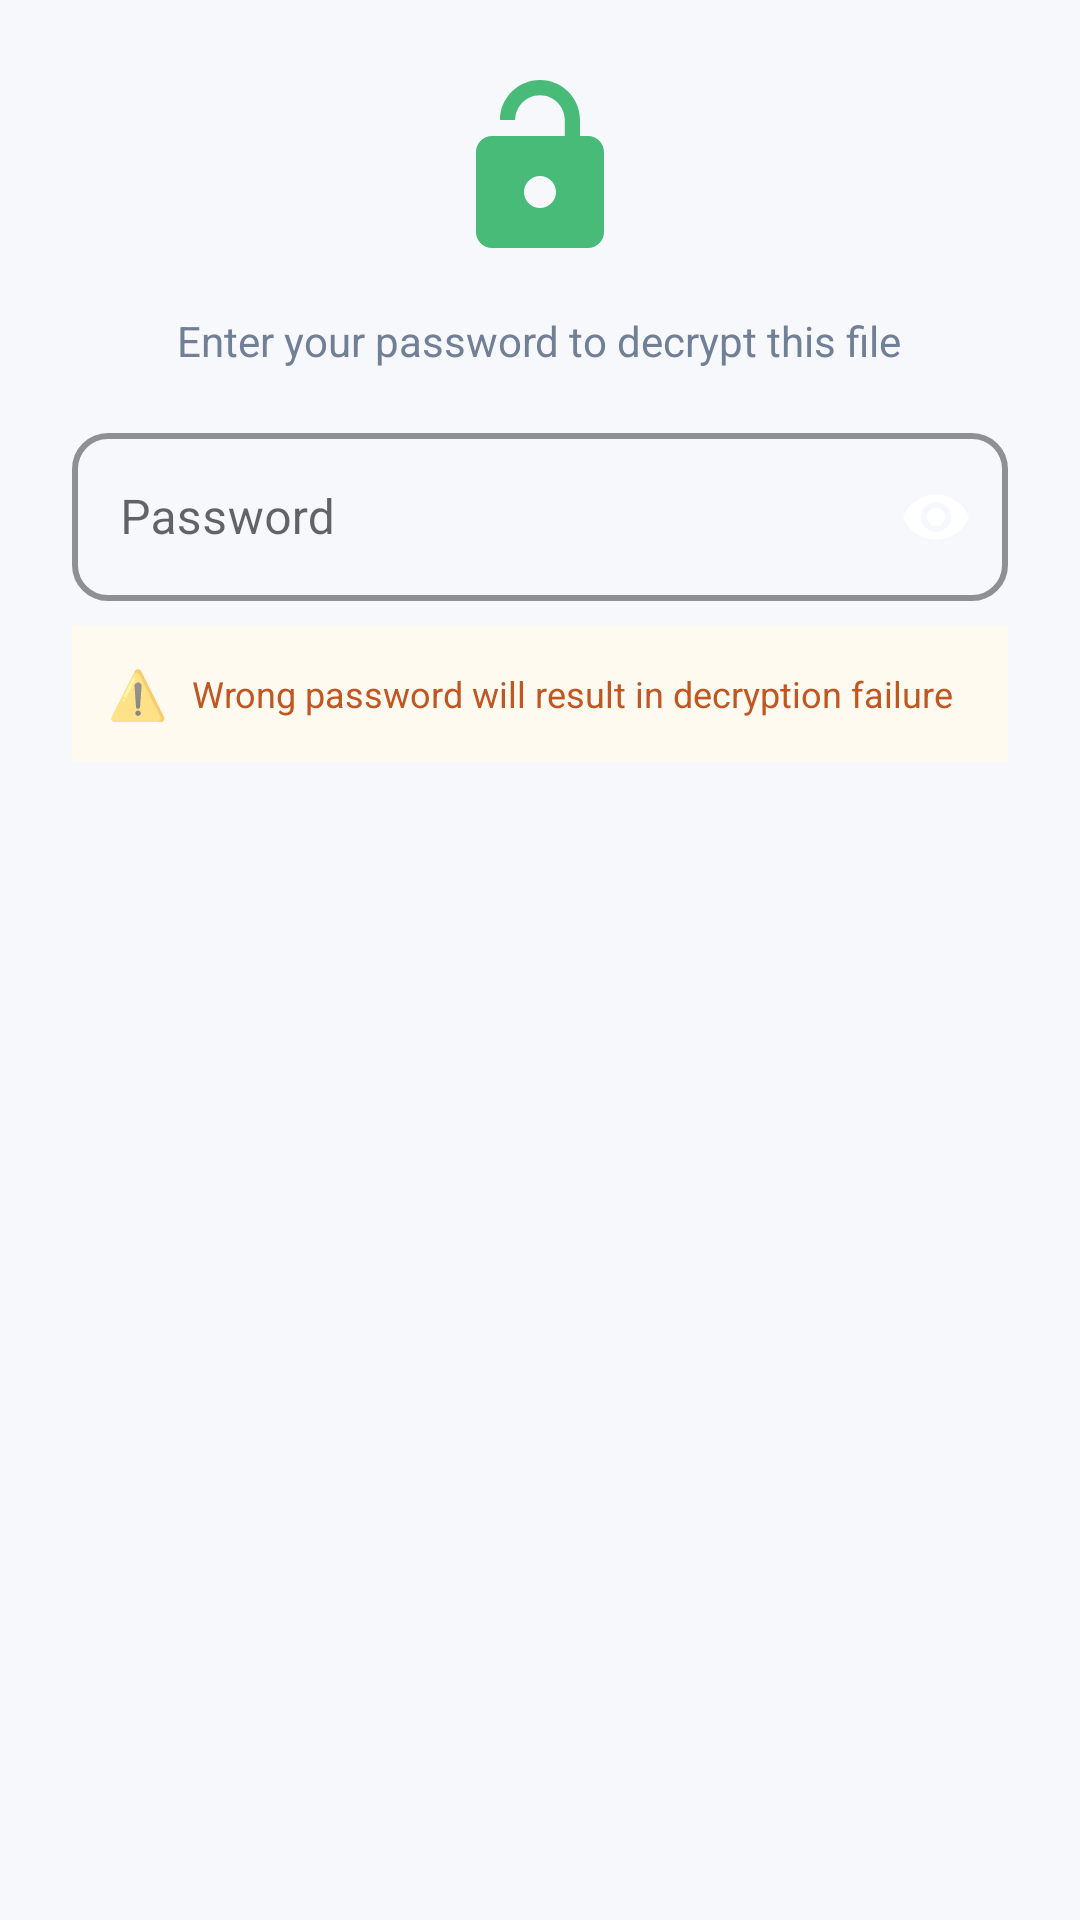

Icon click points for this 1080×1920 phone screenshot, format point (x, y):
unlock: point (540, 164)
